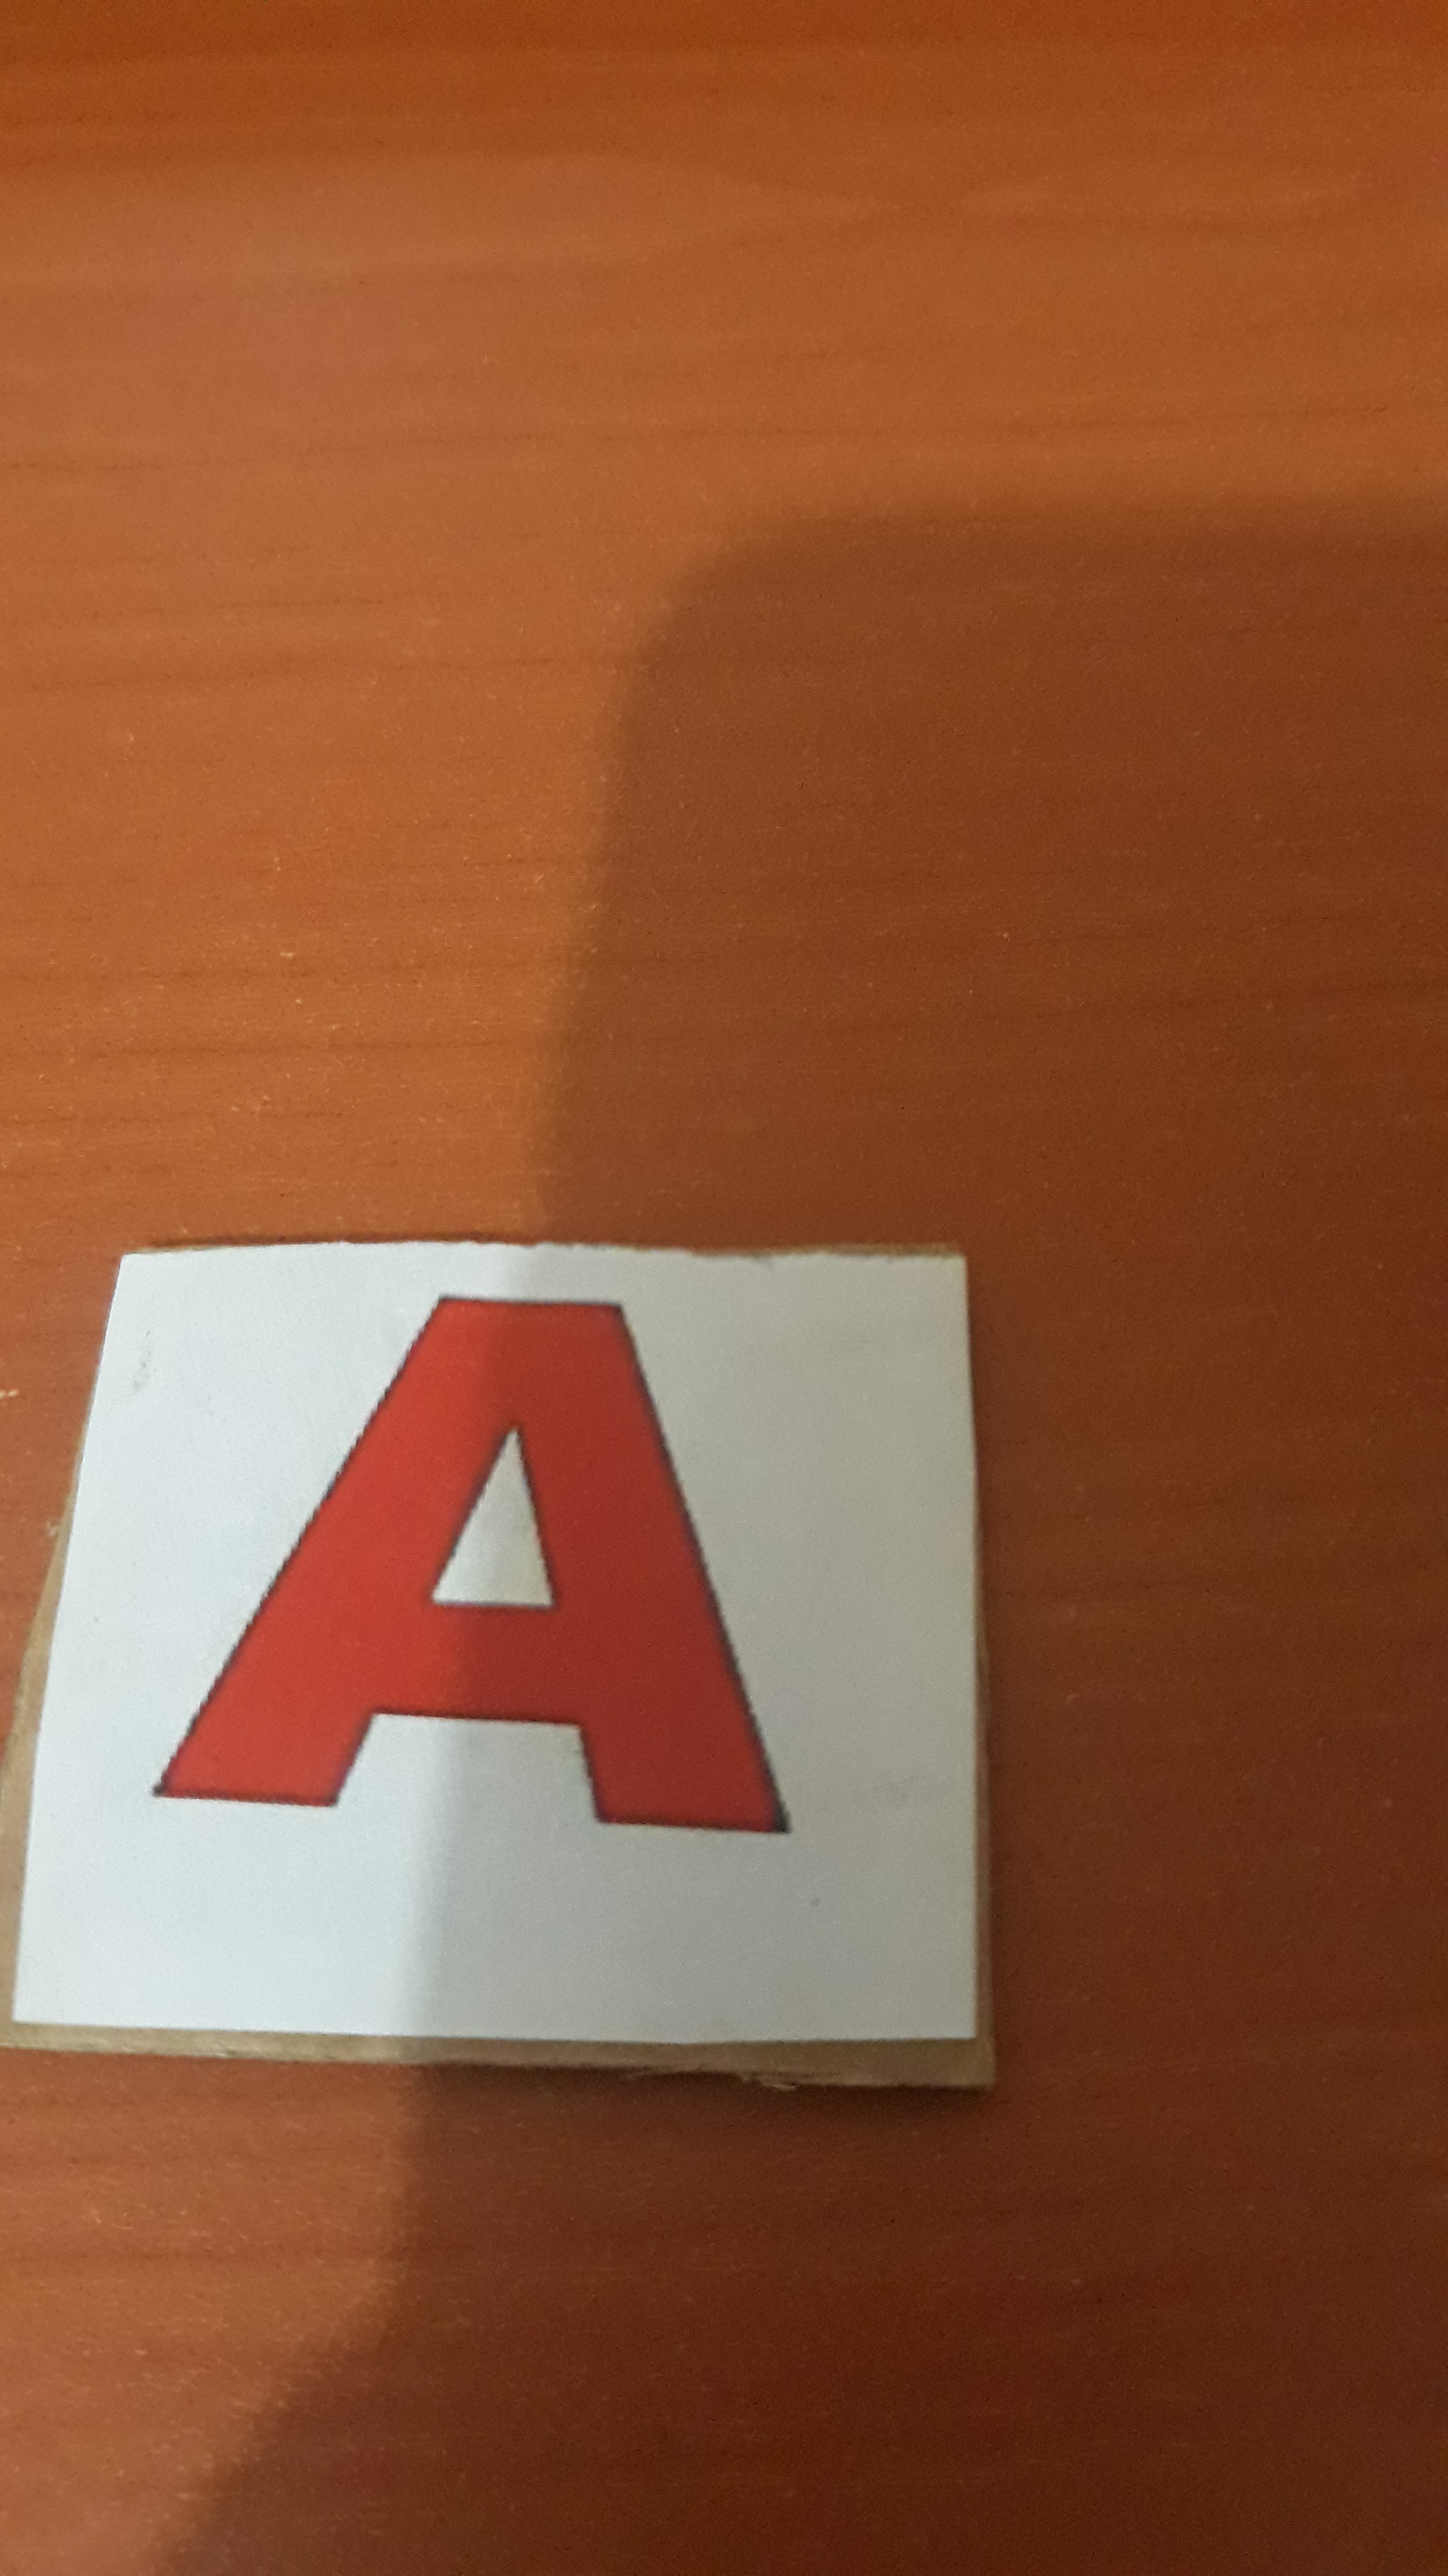zone A: (143, 1272, 830, 1932)
